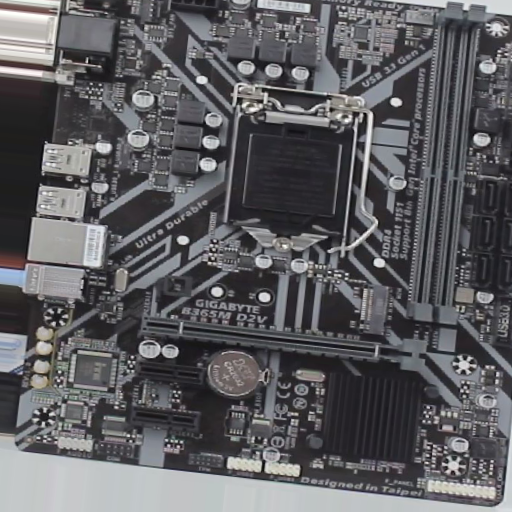CPU: (219, 85, 371, 256)
GPU: (137, 316, 378, 362)
MOTHERBOARD: (14, 3, 512, 505)
RAM: (401, 4, 485, 327)
SSD: (355, 285, 391, 335)
